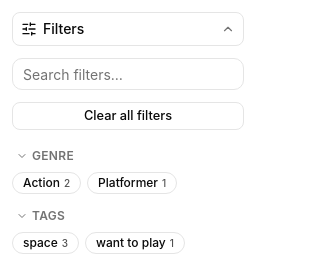
Test: FilterSidebar › narrows chips across every group as you type
The image size is (332, 271).
Type "act" into the field with test id "filter-search".
click(128, 74); type("act")  # box top-left (12, 58), bottom-right (244, 90)
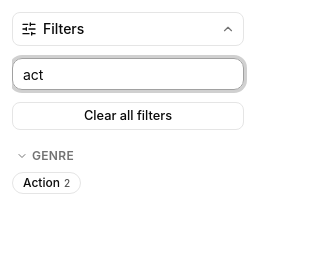
Expected: the button with test id "facet-genres-Action" is shown, top-left (12, 172), bottom-right (81, 194)
Now the button with test id "facet-genres-Platformer" is gone
Now the element with test id "facet-section-tags" is gone
Replace the text in the field with test id "filter-search" with "want to play" at (128, 74), box top-left (12, 58), bottom-right (244, 90)
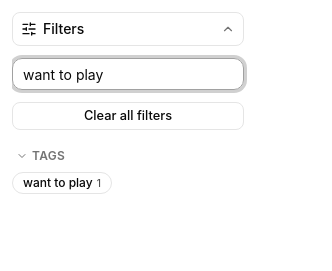
Now the button with test id "facet-tags-want_to_play" is shown, box top-left (12, 172), bottom-right (112, 194)
Now the button with test id "facet-genres-Action" is gone
